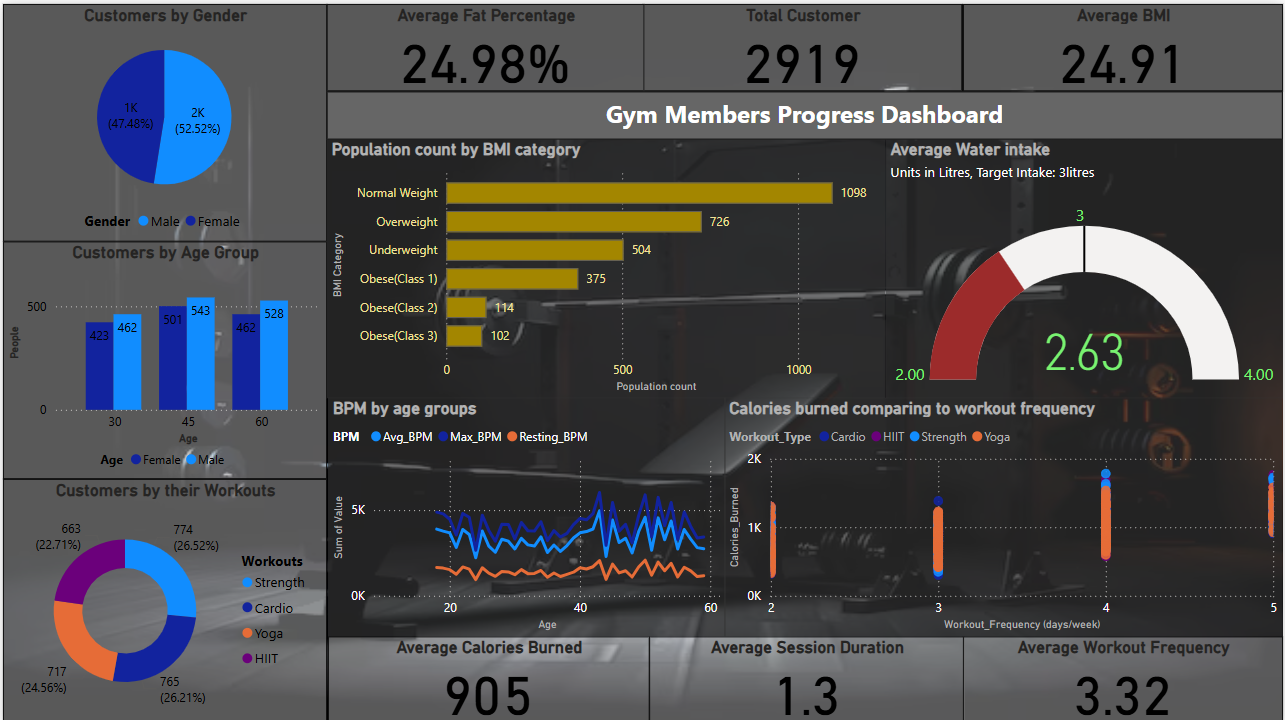

The dashboard page shown, as its layout file describes it:
{"tool":"powerbi","page":{"name":"Page 1","canvas":[1280,720],"ordinal":0},"visuals":[{"type":"pieChart","title":"Customers by Gender","fields":{"Y":["gym_members_exercise_tracking.Population count"],"Category":["gym_members_exercise_tracking.Gender"]},"box":[0,0,323.8,237.5],"z":0},{"type":"clusteredColumnChart","title":"Customers by Age Group","fields":{"Category":["gym_members_exercise_tracking.age bucket"],"Y":["gym_members_exercise_tracking.Population count"],"Series":["gym_members_exercise_tracking.Gender"]},"box":[0,237.5,323.8,237.5],"z":1000},{"type":"donutChart","title":"Customers by their Workouts","fields":{"Y":["CountNonNull(gym_members_exercise_tracking.Workout_Type)"],"Category":["gym_members_exercise_tracking.Workout_Type"]},"box":[0,475,323.8,245],"z":2000},{"type":"card","title":"Total Customer","fields":{"Values":["gym_members_exercise_tracking.Population count"]},"box":[640.5,0,319,87.1],"z":3000},{"type":"clusteredBarChart","fields":{"Category":["gym_members_exercise_tracking.BMI category"],"Y":["gym_members_exercise_tracking.Population count"]},"box":[323.9,135,558.3,258.9],"z":4000},{"type":"card","title":"Average BMI","fields":{"Values":["Avg(gym_members_exercise_tracking.BMI)"]},"box":[960,0,320,87.5],"z":5000},{"type":"card","title":"Average Fat Percentage","fields":{"Values":["gym_members_exercise_tracking.Fat Avg"]},"box":[323.9,0,317.8,87.1],"z":6000},{"type":"gauge","title":"Average Water intake","fields":{"Y":["gym_members_exercise_tracking.Water intake avg"],"MaxValue":["gym_members_exercise_tracking.max water"],"MinValue":["gym_members_exercise_tracking.min water"],"TargetValue":["gym_members_exercise_tracking.Target water"]},"box":[882.2,135,397.5,258.9],"z":7000},{"type":"scatterChart","title":"Calories burned comparing to workout frequency","fields":{"Y":["Sum(gym_members_exercise_tracking.Calories_Burned)1"],"X":["gym_members_exercise_tracking.Workout_Frequency (days/week)"],"Series":["gym_members_exercise_tracking.Workout_Type"]},"box":[721.5,393.9,558.3,238],"z":8000},{"type":"lineChart","title":"BPM by age groups","fields":{"Category":["gym_members_exercise_tracking.Age"],"Series":["gym_members_exercise_tracking.Attribute"],"Y":["Sum(gym_members_exercise_tracking.Value)"]},"box":[325.2,393.9,397.5,238],"z":9000},{"type":"card","title":"Average Calories Burned","fields":{"Values":["gym_members_exercise_tracking.avg calories burned"]},"box":[325,632.5,321.2,87.5],"z":10000},{"type":"card","title":"Average Session Duration","fields":{"Values":["gym_members_exercise_tracking.avg session duration"]},"box":[646.2,632.5,315,87.5],"z":11000},{"type":"card","title":"Average Workout Frequency","fields":{"Values":["Avg(gym_members_exercise_tracking.Workout_Frequency (days/week))"]},"box":[960,632.5,320,87.5],"z":12000},{"type":"textbox","box":[323.9,87.1,955.8,47.9],"z":12001}]}

Visuals, with their boxes in screenshot pixels (x1, y1, x2, y2), scaled from the page's 1280x720 canvas onto the 1285x720 screenshot:
"Customers by Gender" pieChart: bbox(0, 0, 325, 238)
"Customers by Age Group" clusteredColumnChart: bbox(0, 238, 325, 475)
"Customers by their Workouts" donutChart: bbox(0, 475, 325, 719)
"Total Customer" card: bbox(643, 0, 963, 87)
clusteredBarChart - gym_members_exercise_tracking.BMI category x gym_members_exercise_tracking.Population count: bbox(325, 135, 886, 394)
"Average BMI" card: bbox(964, 0, 1284, 88)
"Average Fat Percentage" card: bbox(325, 0, 644, 87)
"Average Water intake" gauge: bbox(886, 135, 1284, 394)
"Calories burned comparing to workout frequency" scatterChart: bbox(724, 394, 1284, 632)
"BPM by age groups" lineChart: bbox(326, 394, 726, 632)
"Average Calories Burned" card: bbox(326, 632, 649, 719)
"Average Session Duration" card: bbox(649, 632, 965, 719)
"Average Workout Frequency" card: bbox(964, 632, 1284, 719)
textbox: bbox(325, 87, 1284, 135)
